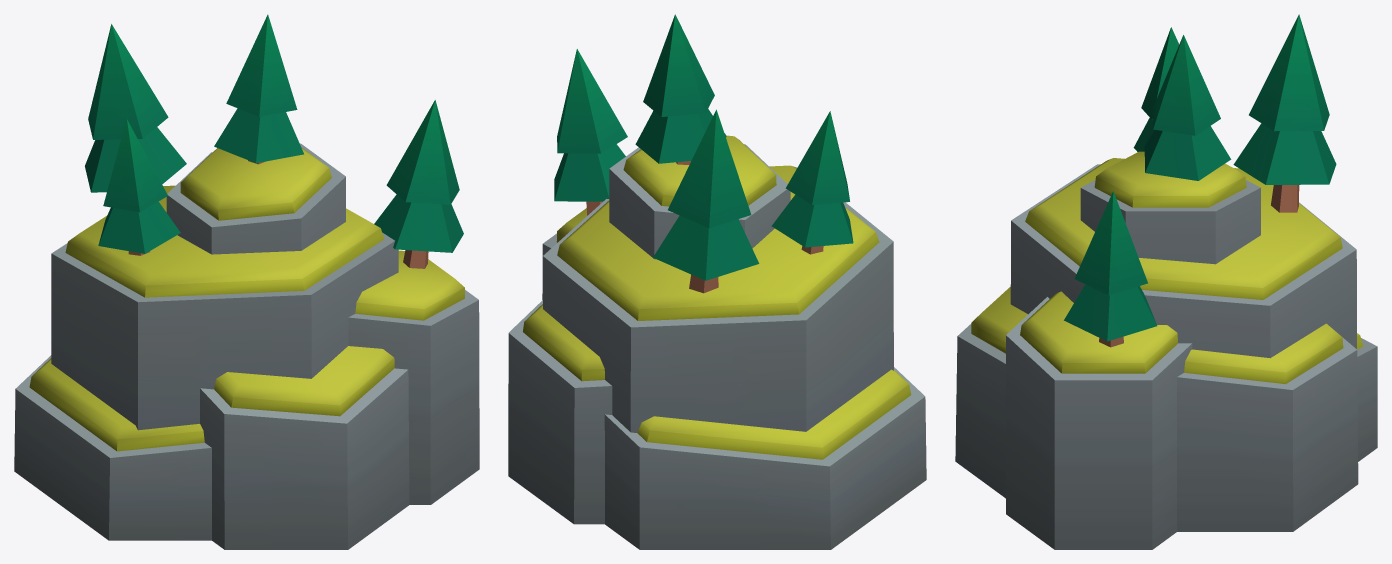
File: mountain.glb
3 views of the same model, side by side, from view 1: azimuth 30°, elevation 25°; view 2: azimuth 150°, elevation 25°; view 3: azimuth 270°, elevation 25° (orthographic).
Visible parts, largest first — view 1: mountain_A_grass_trees; view 2: mountain_A_grass_trees; view 3: mountain_A_grass_trees.
Part boxes in pixels (bbox=[...]): mountain_A_grass_trees: bbox=[14, 14, 479, 549]; mountain_A_grass_trees: bbox=[508, 14, 926, 549]; mountain_A_grass_trees: bbox=[955, 14, 1377, 549].
Size of the model in its own units: 1.86 by 2.18 by 1.88.
Materials: 1 (1 with a texture image).
